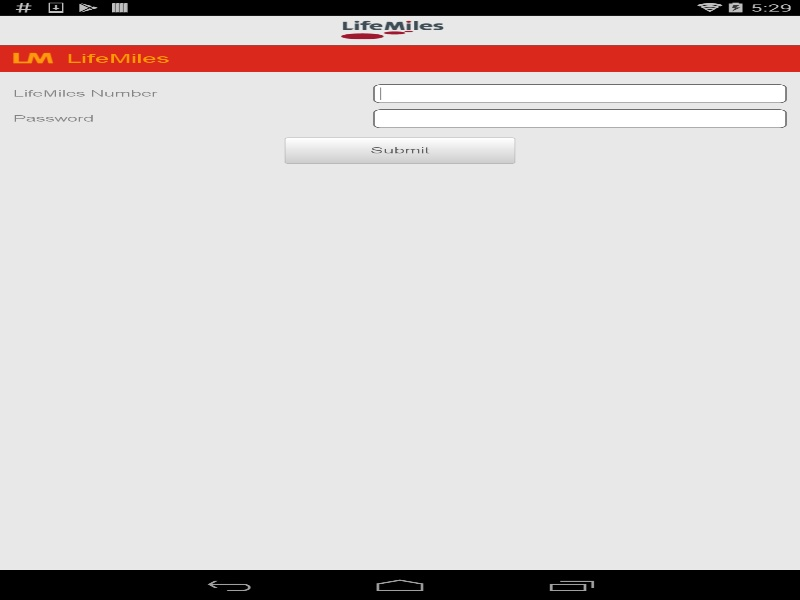Button: (284, 137, 515, 163)
Input: (373, 84, 786, 103), (373, 109, 786, 128)
